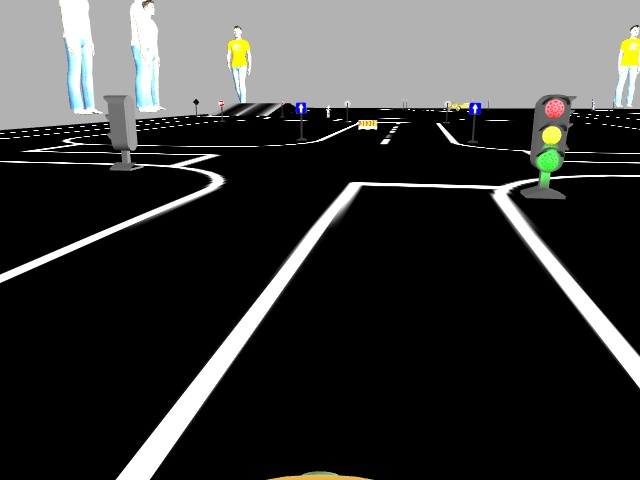ClosedRoadStand: (357, 119, 376, 129)
OneWay: (469, 101, 478, 114), (295, 102, 305, 113)
TrafficLight: (529, 95, 570, 173)
